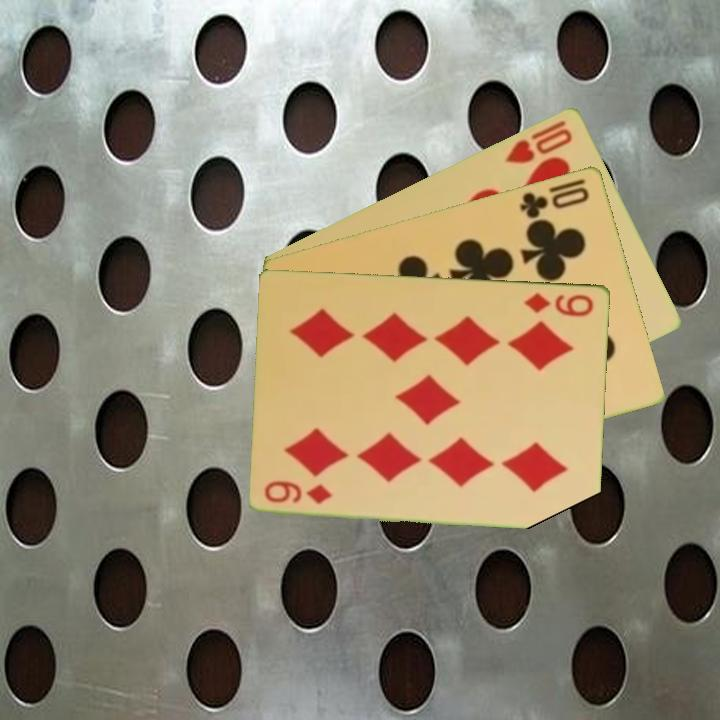10c: (516, 183, 592, 221)
10h: (501, 115, 576, 166)
9d: (521, 288, 597, 319), (261, 478, 335, 506)
